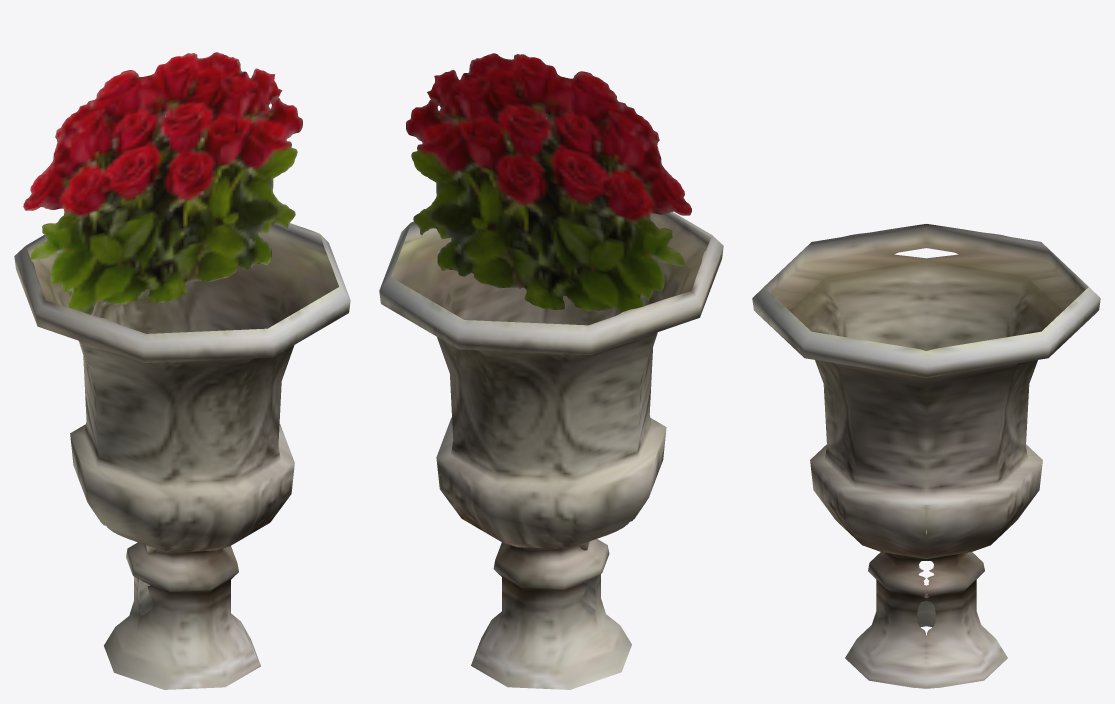
The model's file is rose_bouquet.FBX.
3 views of the same model, side by side, from view 1: azimuth 30°, elevation 25°; view 2: azimuth 150°, elevation 25°; view 3: azimuth 270°, elevation 25° (orthographic). The views are drawn at different scales.
Parts seen in each view (by area): view 1: rose_vase, rose_bouquet; view 2: rose_vase, rose_bouquet; view 3: rose_vase.
Part boxes in pixels (<box>): rose_vase: <box>14,223,350,689</box>; rose_bouquet: <box>23,52,302,314</box>; rose_vase: <box>379,212,723,689</box>; rose_bouquet: <box>406,53,691,313</box>; rose_vase: <box>752,224,1100,688</box>.
Bounding box in the file's own units: 49.12 × 92.77 × 51.31.
